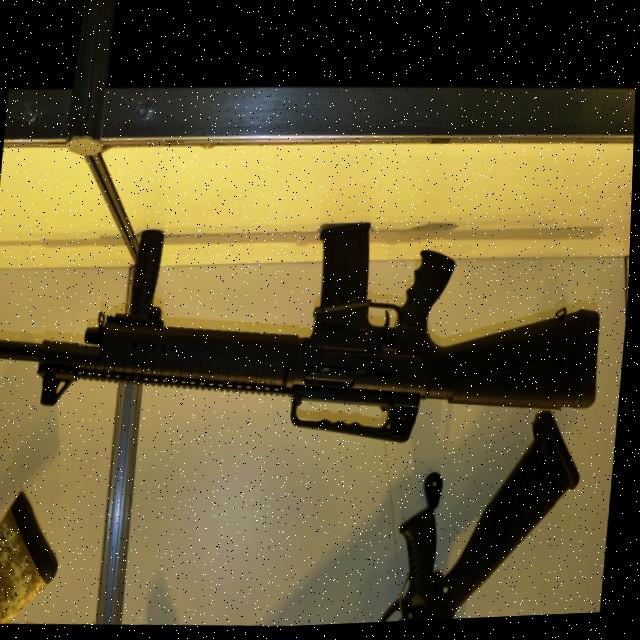firearm: (0, 202, 613, 470), (377, 407, 591, 626)
